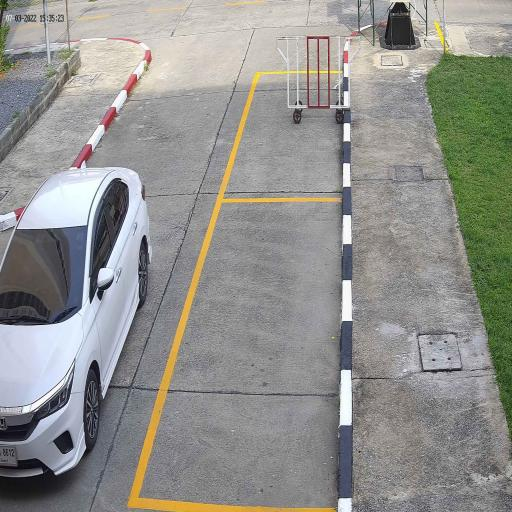car: (0, 165, 154, 482)
